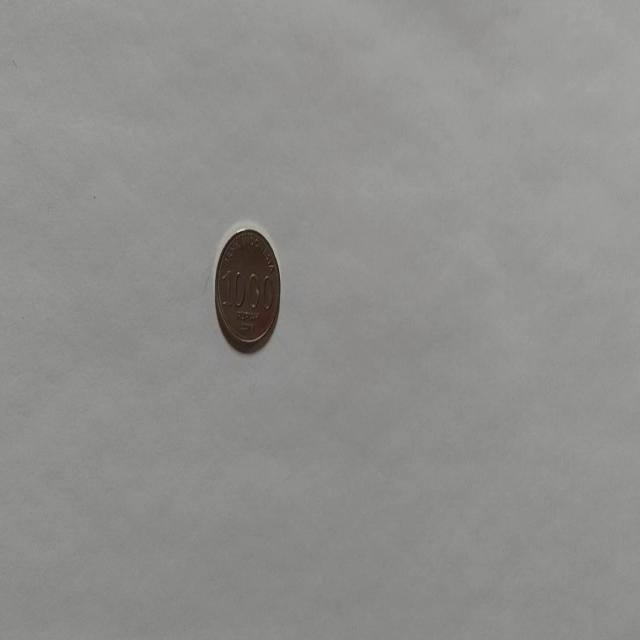seribu rupiah koin: (213, 225, 281, 353)
